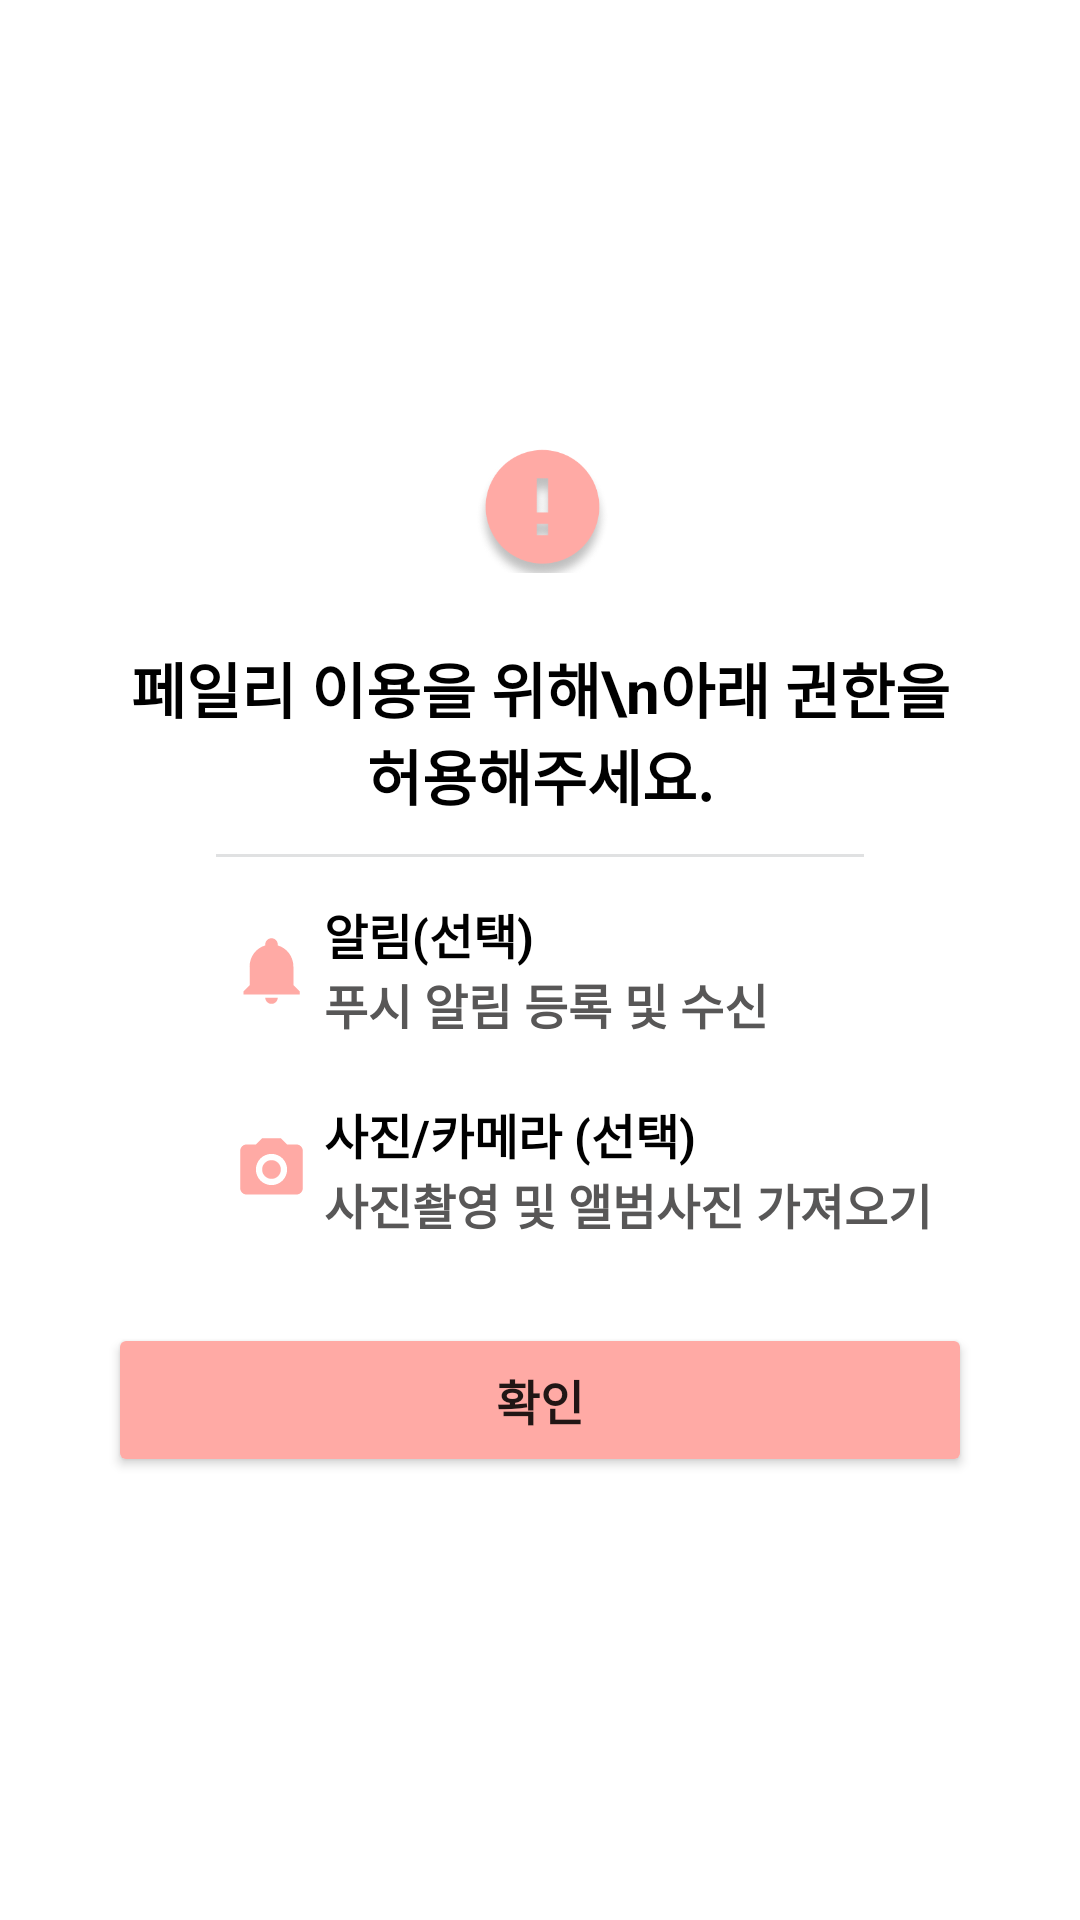

Icon bounding boxes for this 1080*1920 phone screenshot, format {"x1": x1, "y1": y1, "x2": x2, "y2": y2}:
permission alert: {"x1": 484, "y1": 450, "x2": 601, "y2": 573}
permission notification: {"x1": 243, "y1": 938, "x2": 300, "y2": 1004}
